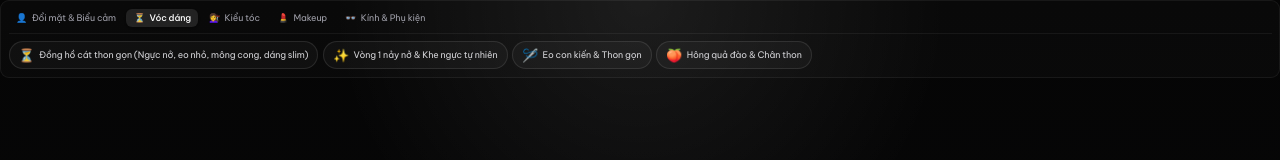
Test: IdentityTransferPresets › switches category when category button is clicked
This screenshot has width=1280, height=160.
Click the text "Kiểu tóc" at (242, 18), box [225,12,260,24]
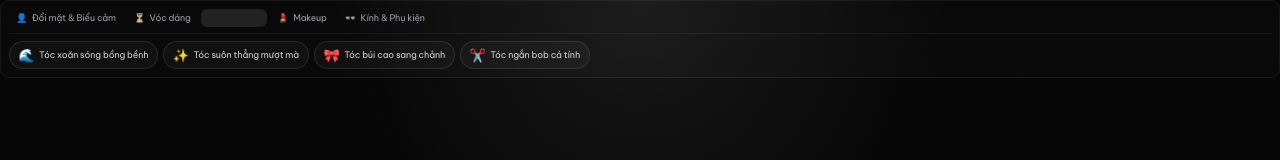
Now the text "Tóc xoăn sóng bồng bềnh" is shown, box [39,49,148,61]
Now the text "Tóc suôn thẳng mượt mà" is shown, box [193,49,299,61]
Click the text "Kính & Phụ kiện" at (393, 18), box [360,12,425,24]
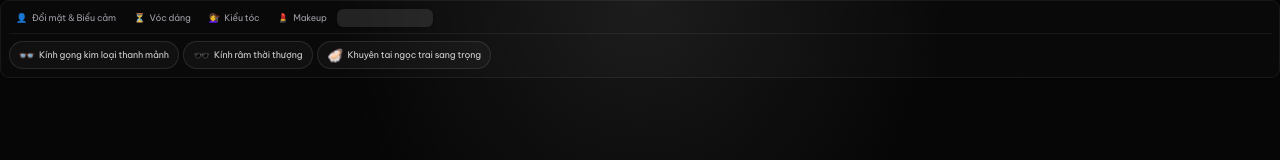
Now the text "Kính gọng kim loại thanh mảnh" is shown, box [39,49,169,61]
Now the text "Kính râm thời thượng" is shown, box [214,49,302,61]
